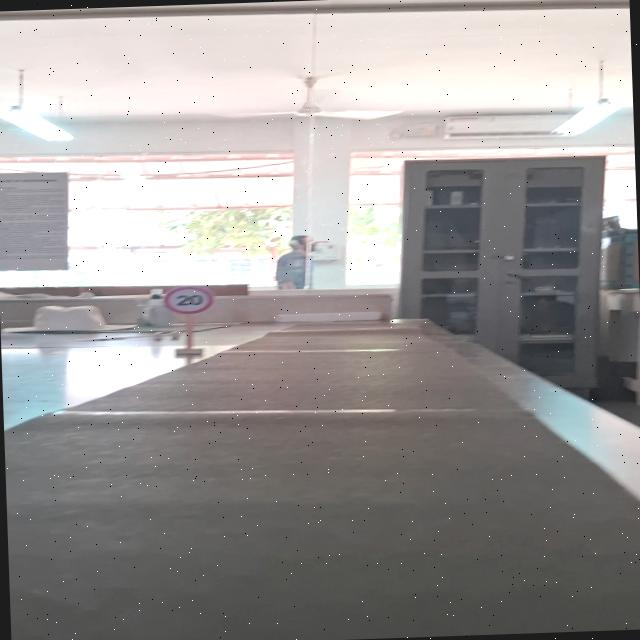Speed20: (162, 284, 216, 316)
